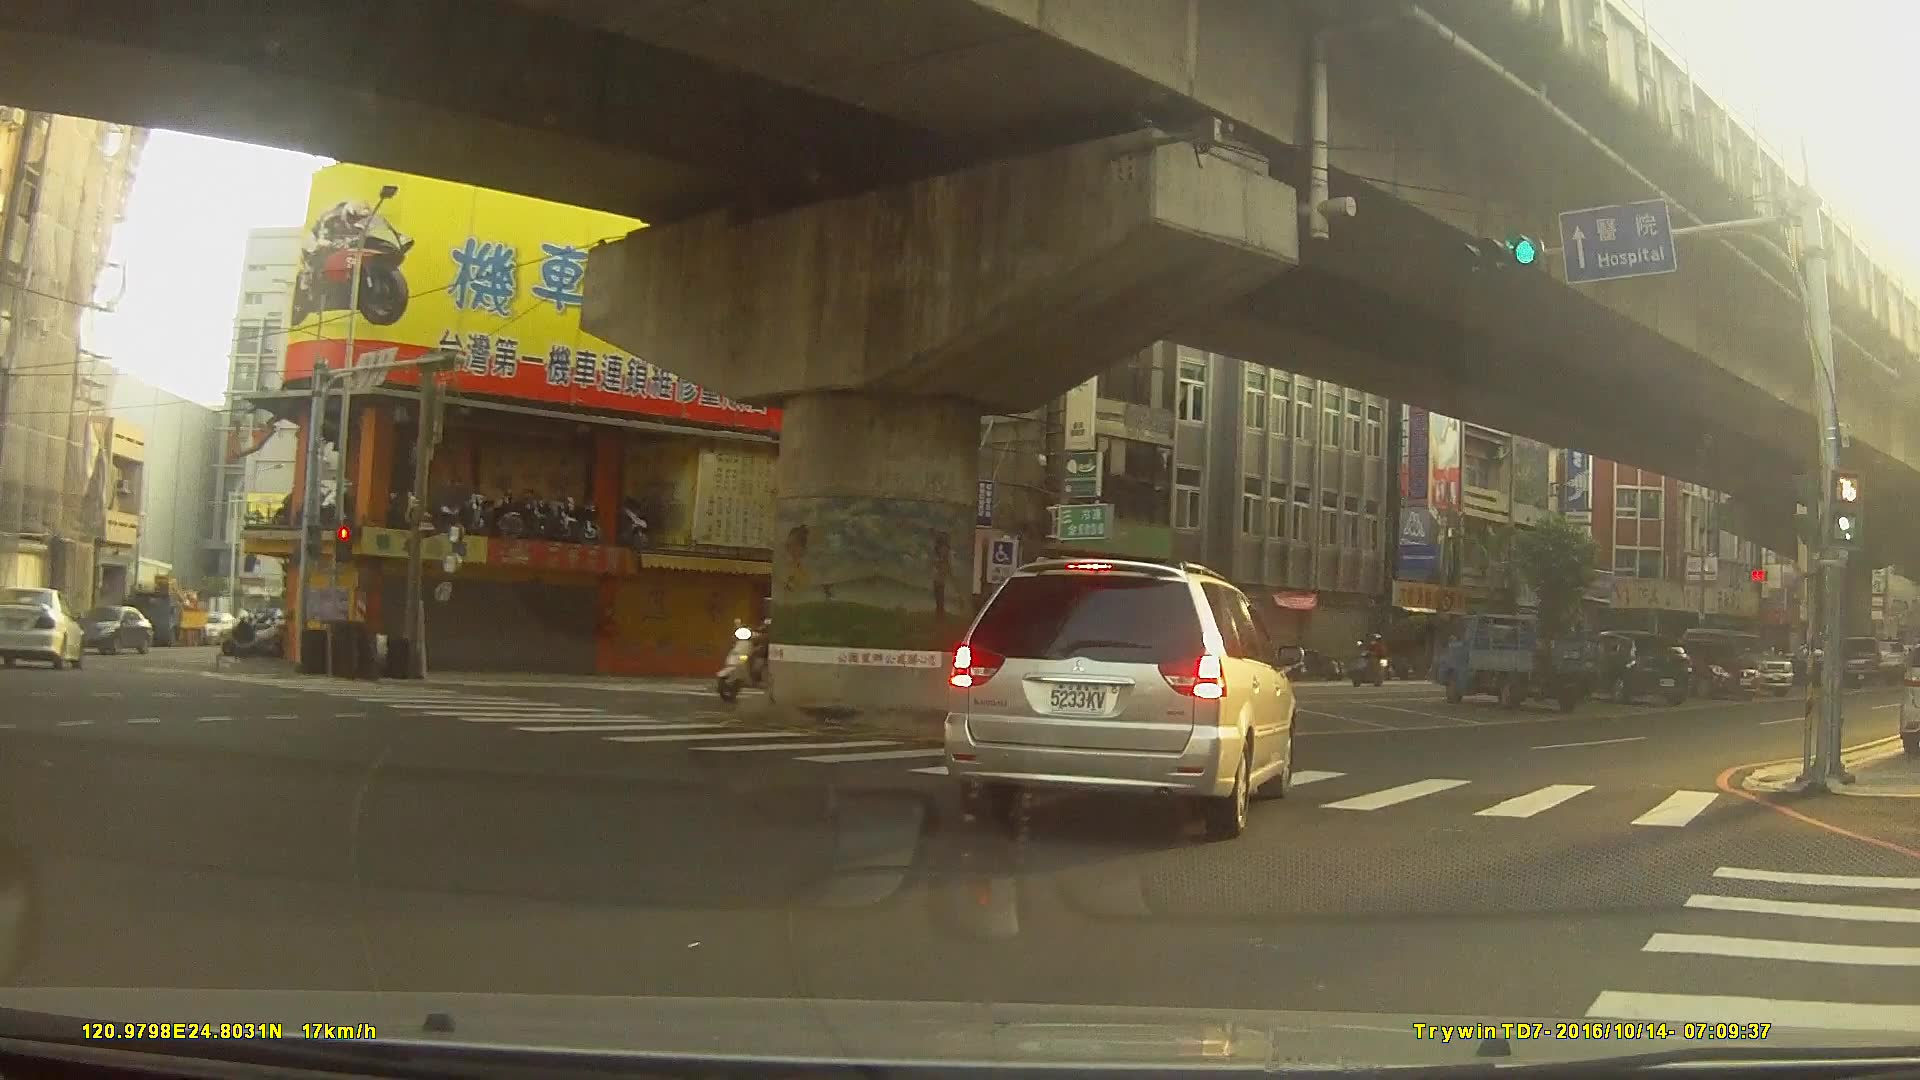rider: (713, 596, 802, 703), (1354, 635, 1390, 687)
vehicle: (938, 557, 1294, 839), (1427, 611, 1600, 711), (1560, 626, 1690, 703), (0, 583, 84, 669), (1654, 636, 1762, 700), (77, 603, 152, 654), (197, 610, 239, 641)
